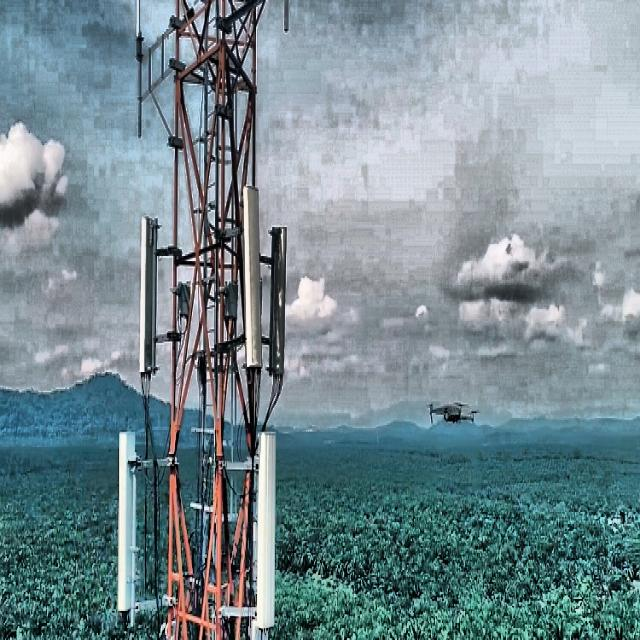antenna: (253, 432, 275, 639), (117, 432, 136, 624), (242, 186, 261, 367), (139, 216, 158, 374), (268, 226, 286, 378)
